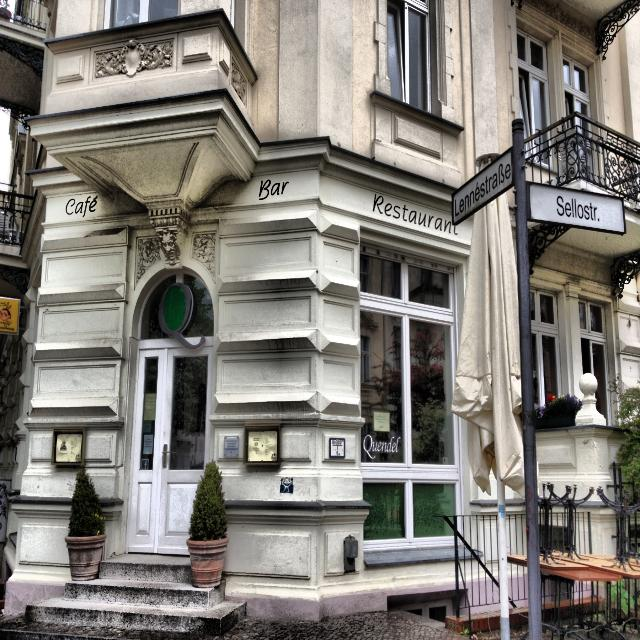escada: (22, 558, 244, 640)
